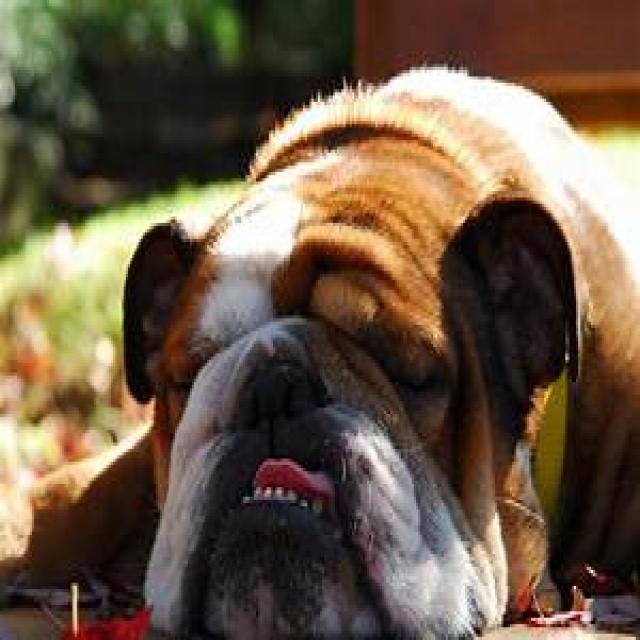dog: (0, 64, 637, 638)
